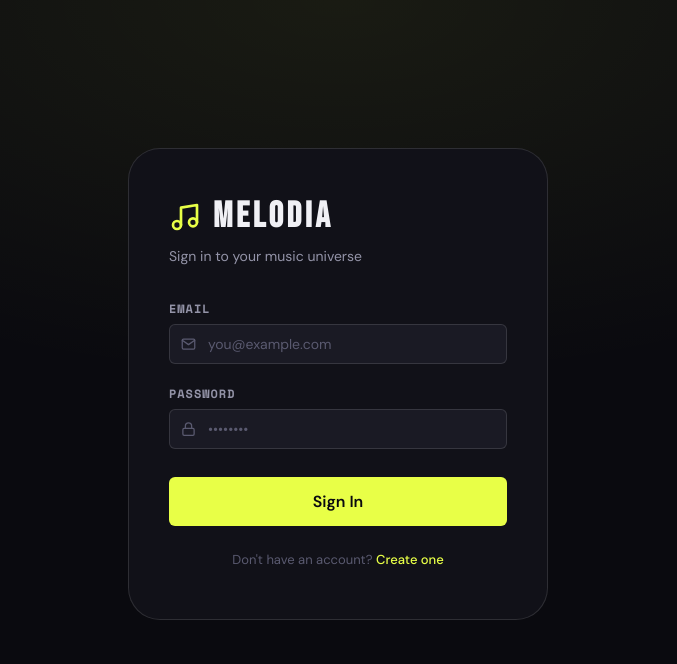
Test case: Authentication Flow › Login › shows validation error for invalid email
Type "notvalid" into the field named "email".
click(338, 344); type("notvalid")  # box [169,324,507,364]
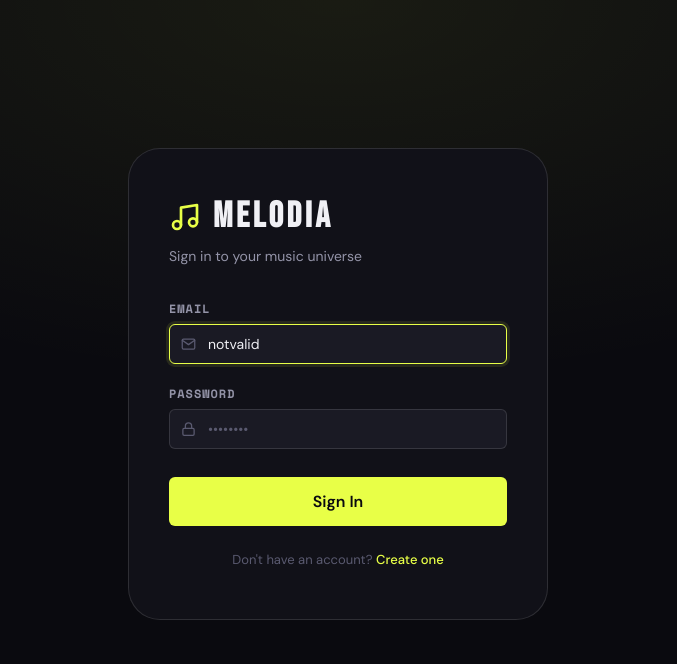
Check: the submit button is enabled
Click the submit button.
click(338, 502)  # box [169,477,507,526]
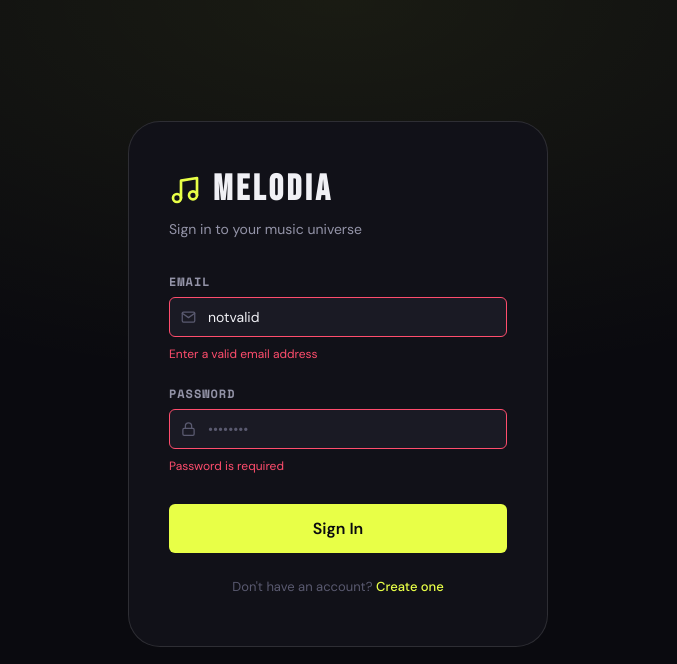
Check: the text "Enter a valid email address" is shown, box [169,346,318,362]
